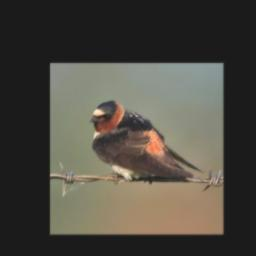Swallow: (89, 99, 205, 184)
